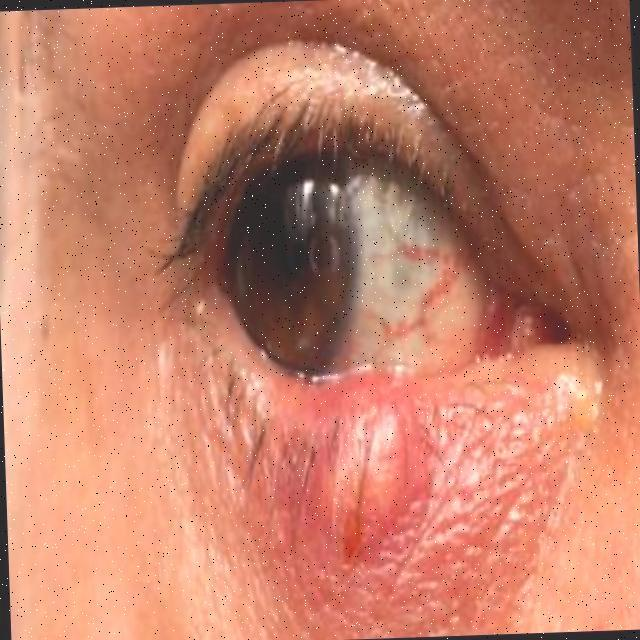Stye: (228, 313, 512, 616)
